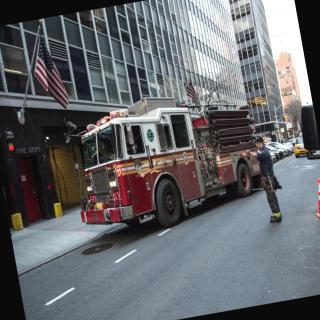Fire_truck: (61, 81, 270, 242)
